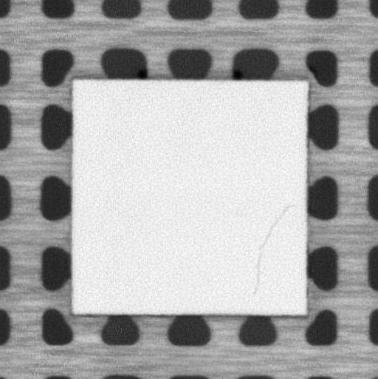DIE_CRACK: (248, 203, 293, 299)
